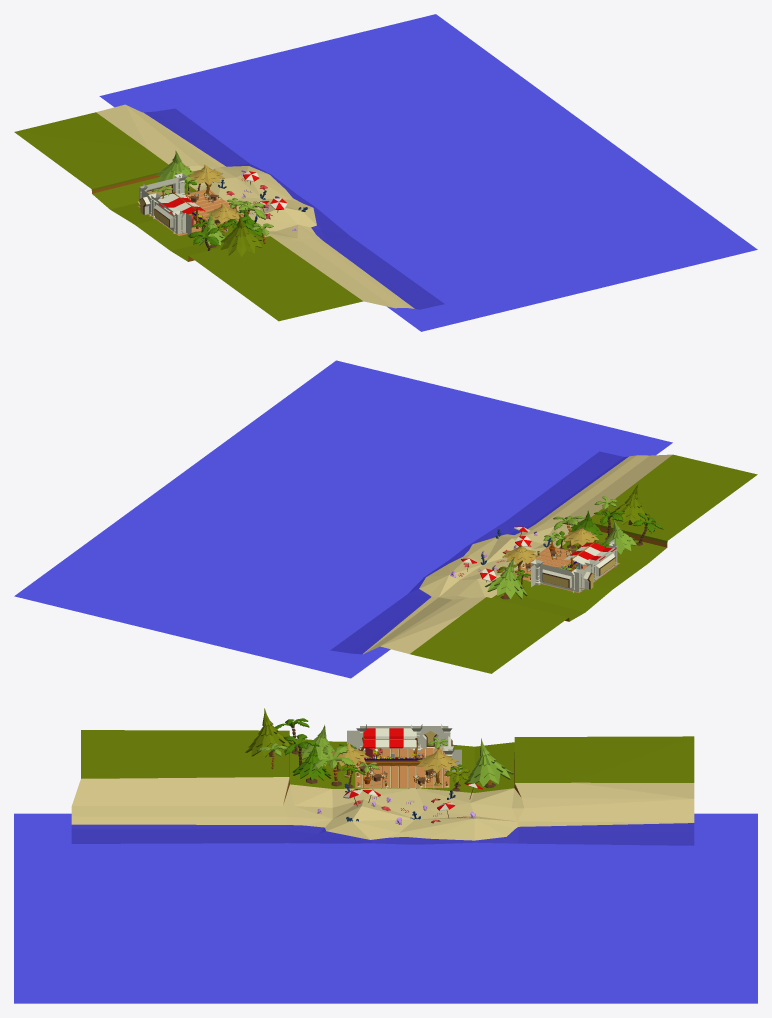
Rendered from lopendeBandVoorUnityXpV3Mei21.fbx.
3 renders of one model, top to bottom at view 1: azimuth 30°, elevation 25°; view 2: azimuth 150°, elevation 25°; view 3: azimuth 270°, elevation 25°, orthographic. The views are drawn at different scales.
Visible parts, largest first — view 1: zee_water_water, strandBos_zandGras_zandStrand_houtPalm_groen3, terras_muren_wit1_glas_zandPlant, bos_den3_groen3_zandPlant, terras_vlonder_houtVlonder, terras_beschutting_parasol_wit1, bos_den4_bladPalm_houtPalm; view 2: zee_water_water, strandBos_zandGras_zandStrand_houtPalm_groen3, terras_muren_wit1_glas_zandPlant, bos_den4_bladPalm_houtPalm, terras_vlonder_houtVlonder, bos_den3_groen3_zandPlant, terras_beschutting_parasol_wit1; view 3: zee_water_water, strandBos_zandGras_zandStrand_houtPalm_groen3, terras_vlonder_houtVlonder, terras_muren_wit1_glas_zandPlant, terras_beschutting_parasol_wit1, bos_den4_bladPalm_houtPalm, bos_den3_groen3_zandPlant, terras_rietenParasol1_houtPalm_riet, bos_palm4_bladPalm_houtPalm, bos_den2_gras_zandPlant.
Part boxes in pixels (x1,y1,x2,y2): zee_water_water: [99, 14, 757, 331]; strandBos_zandGras_zandStrand_houtPalm_groen3: [14, 104, 443, 321]; terras_muren_wit1_glas_zandPlant: [139, 172, 191, 234]; bos_den3_groen3_zandPlant: [220, 215, 262, 256]; terras_vlonder_houtVlonder: [138, 189, 243, 235]; terras_beschutting_parasol_wit1: [152, 193, 205, 215]; bos_den4_bladPalm_houtPalm: [156, 150, 197, 189]; zee_water_water: [14, 360, 672, 678]; strandBos_zandGras_zandStrand_houtPalm_groen3: [331, 452, 757, 673]; terras_muren_wit1_glas_zandPlant: [531, 539, 617, 593]; bos_den4_bladPalm_houtPalm: [485, 557, 527, 599]; terras_vlonder_houtVlonder: [514, 546, 619, 592]; bos_den3_groen3_zandPlant: [609, 484, 652, 526]; terras_beschutting_parasol_wit1: [563, 542, 616, 564]; zee_water_water: [14, 813, 757, 1003]; strandBos_zandGras_zandStrand_houtPalm_groen3: [71, 730, 694, 845]; terras_vlonder_houtVlonder: [355, 748, 449, 788]; terras_muren_wit1_glas_zandPlant: [347, 726, 461, 771]; terras_beschutting_parasol_wit1: [363, 728, 416, 748]; bos_den4_bladPalm_houtPalm: [464, 738, 514, 787]; bos_den3_groen3_zandPlant: [245, 708, 293, 757]; terras_rietenParasol1_houtPalm_riet: [417, 748, 458, 783]; bos_palm4_bladPalm_houtPalm: [311, 746, 355, 783]; bos_den2_gras_zandPlant: [292, 743, 331, 780].
Size of the model in its own units: 392 by 50.16 by 486.
